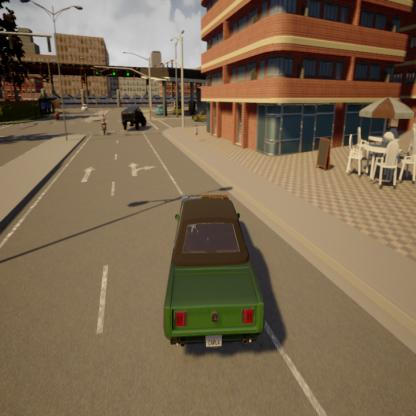Cars: (164, 195, 264, 348), (120, 103, 148, 131), (173, 96, 183, 116), (53, 103, 62, 123), (101, 109, 106, 136), (80, 99, 88, 113), (157, 102, 163, 117)
Pedestrian: (195, 119, 200, 137)
